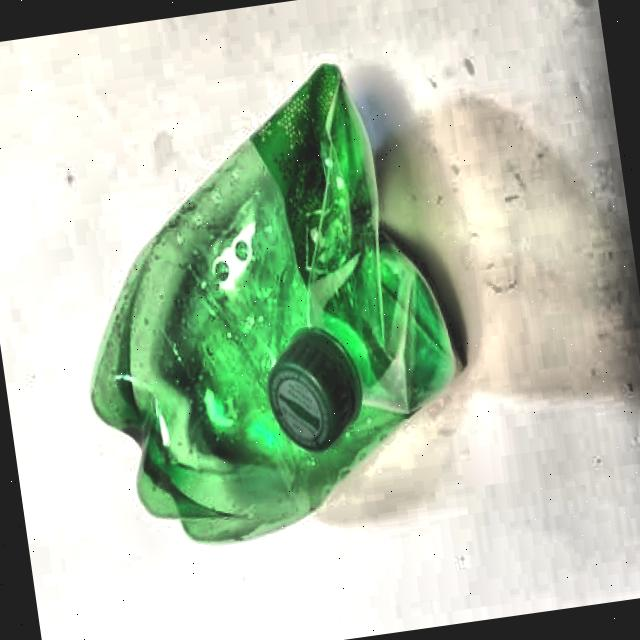plastic: (49, 52, 490, 565)
